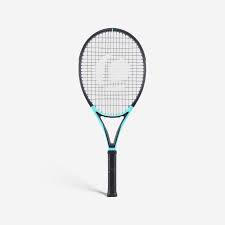tennis racket: (77, 26, 147, 200)
